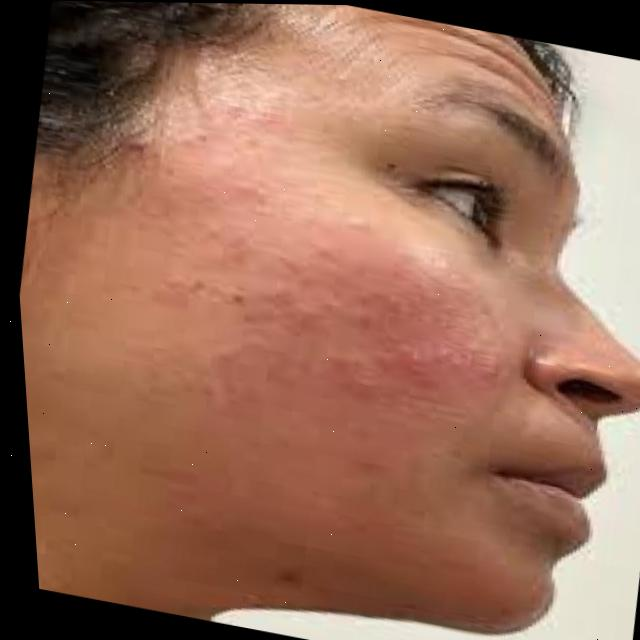Rosacea: (203, 230, 497, 417)
